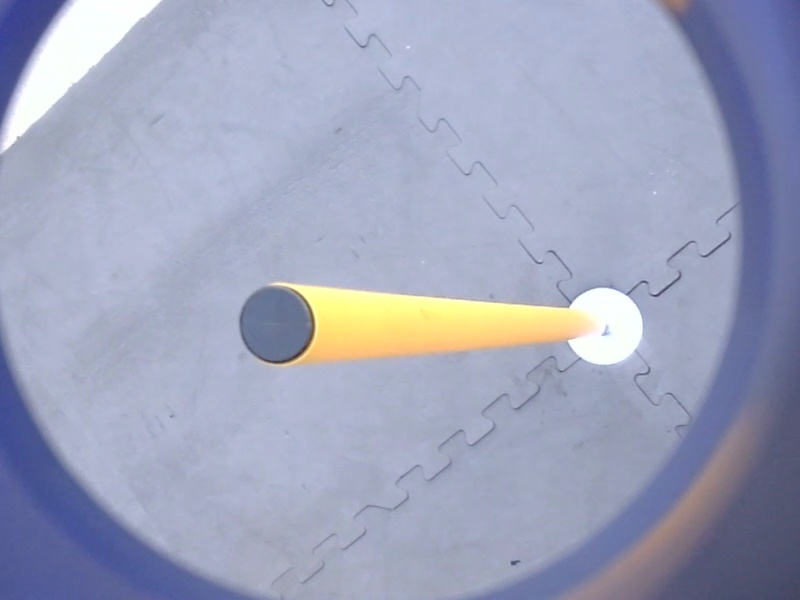tip: (233, 278, 323, 373)
